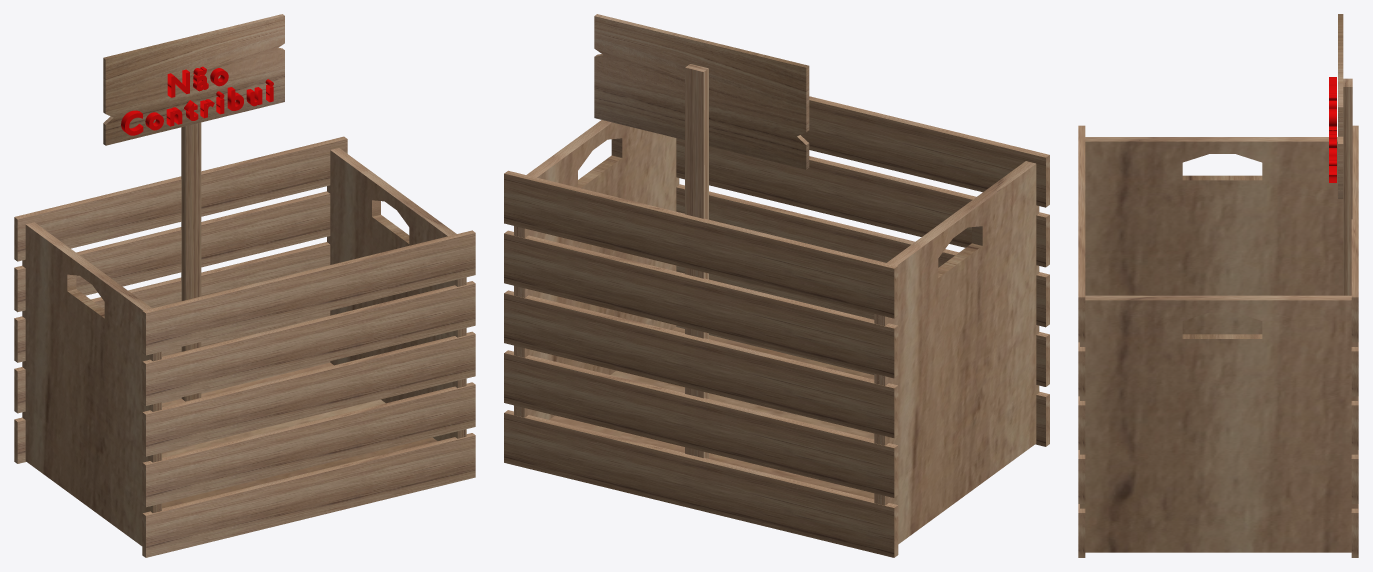
The model's file is caixotenaocontribui.glb.
The picture shows the model from 3 angles, left to right: view 1: azimuth 30°, elevation 25°; view 2: azimuth 150°, elevation 25°; view 3: azimuth 270°, elevation 25°; orthographic projection. The views are drawn at different scales.
Parts seen in each view (by area): view 1: Cube.002; view 2: Cube.002; view 3: Cube.002.
Part boxes in pixels (x1,y1,x2,y2): Cube.002: (14, 14, 475, 557); Cube.002: (504, 14, 1049, 557); Cube.002: (1078, 14, 1358, 557).
Size of the model in its own units: 2.92 by 3.29 by 2.02.
Materials: 2 (1 with a texture image).
